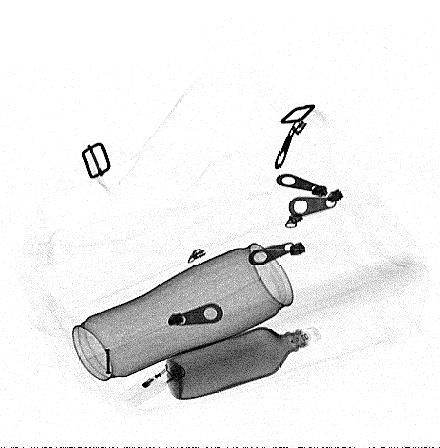Lighter: (117, 360, 189, 408)
